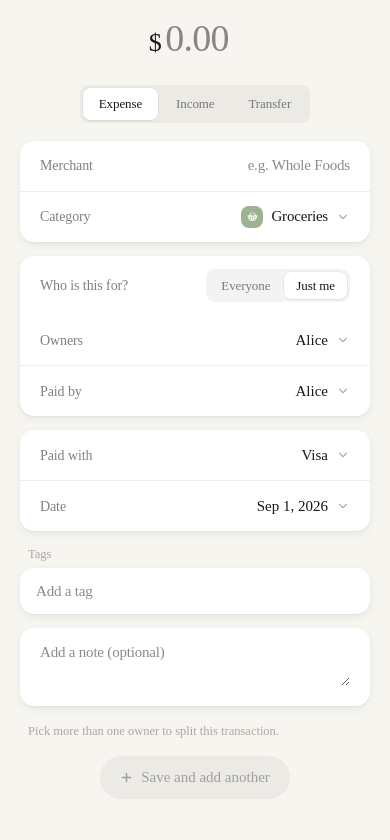
Test: tx form — every picker is the shared accordion row › Paid with is a disclosure row that picks a card and closes
Click the button "Paid with Visa": (66, 455) left=20, top=430, right=370, bottom=480
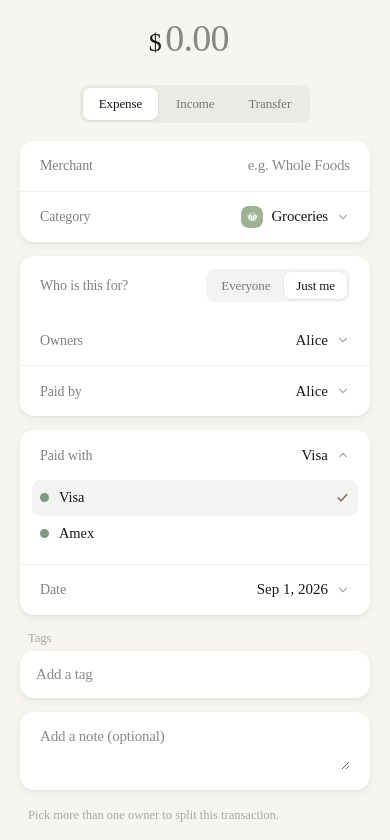
Click the button "Amex": (77, 533) left=32, top=516, right=358, bottom=552
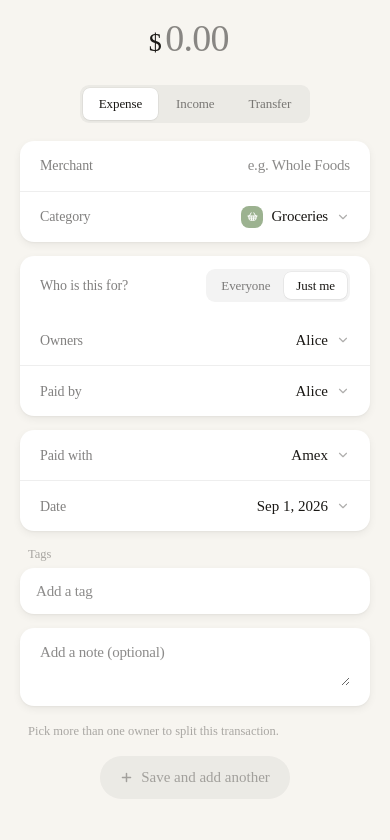
Result: the element showing "Amex" is shown at left=291, top=447, right=350, bottom=463
Result: the button "Paid with Amex" is shown at left=20, top=430, right=370, bottom=480
